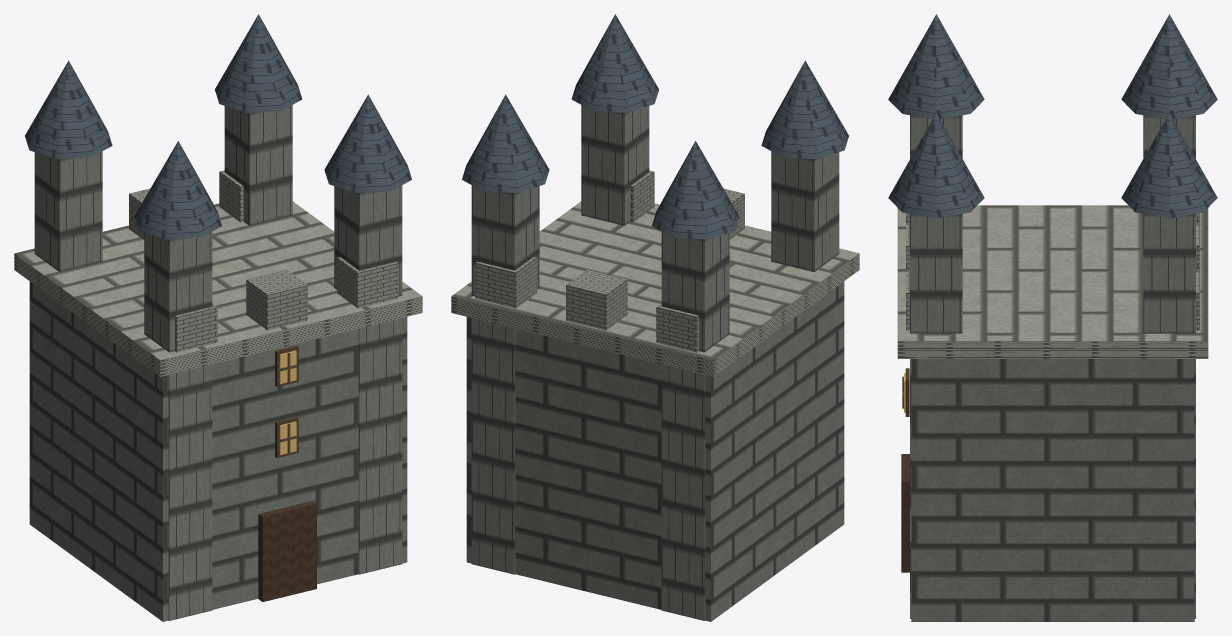
Rendered from procedural_keep@6.glb.
3 views of the same model, side by side, from view 1: azimuth 30°, elevation 25°; view 2: azimuth 150°, elevation 25°; view 3: azimuth 270°, elevation 25° (orthographic). The views are drawn at different scales.
Visible parts, largest first — view 1: part_0, part_2, part_1, part_3, part_4, part_5, part_7, part_6; view 2: part_0, part_2, part_1, part_3, part_4; view 3: part_0, part_1, part_3, part_2, part_5, part_4.
Part boxes in pixels (bbox=[...]): part_0: bbox=[29, 281, 407, 621]; part_2: bbox=[34, 105, 402, 620]; part_1: bbox=[14, 201, 422, 376]; part_3: bbox=[25, 14, 411, 239]; part_4: bbox=[129, 170, 398, 352]; part_5: bbox=[258, 501, 316, 601]; part_7: bbox=[279, 350, 296, 454]; part_6: bbox=[275, 345, 298, 457]; part_0: bbox=[466, 281, 844, 621]; part_2: bbox=[471, 105, 839, 620]; part_1: bbox=[451, 201, 859, 376]; part_3: bbox=[462, 14, 848, 239]; part_4: bbox=[475, 170, 744, 352]; part_0: bbox=[911, 359, 1194, 621]; part_1: bbox=[897, 205, 1208, 358]; part_3: bbox=[888, 14, 1217, 218]; part_2: bbox=[910, 115, 1195, 618]; part_5: bbox=[901, 454, 909, 572]; part_4: bbox=[906, 213, 1199, 330].
Size of the model in its own units: 5.94 by 9.85 by 5.94.
10 materials, 7 textured.
